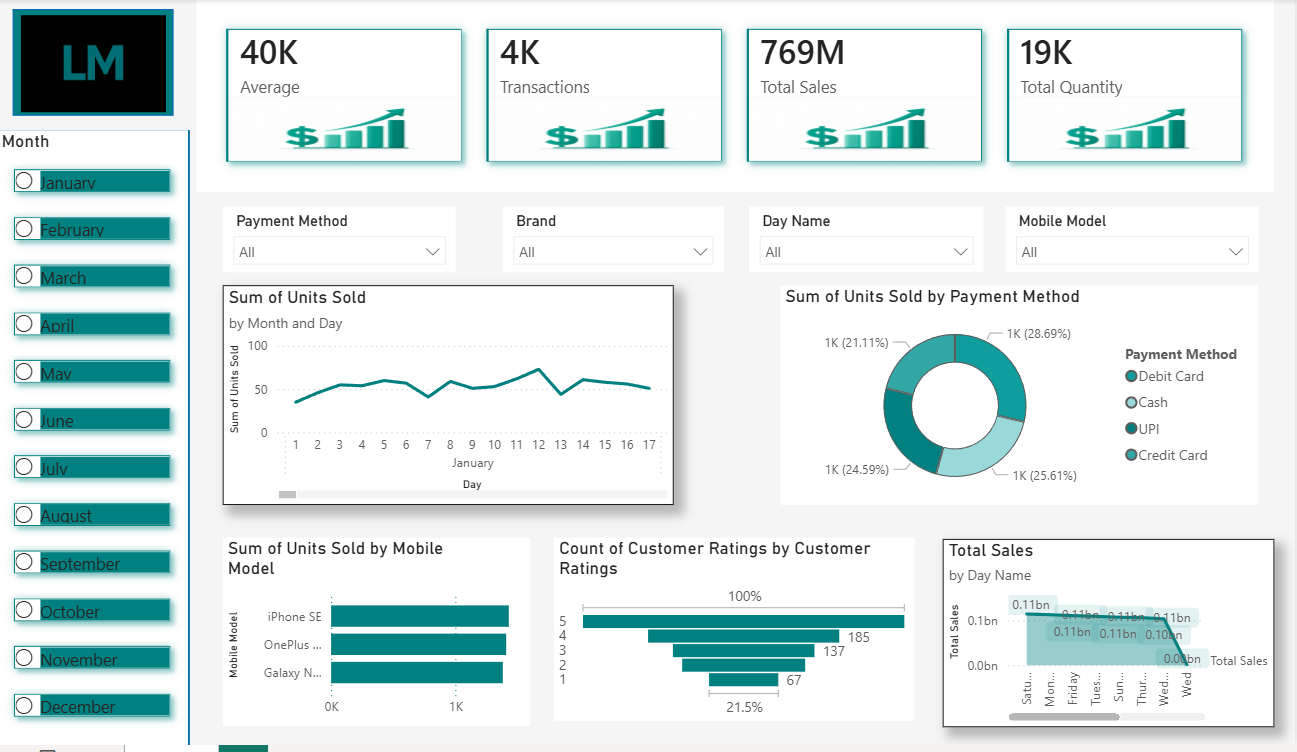

The page's visual inventory and layout, read from the dashboard file:
{"tool":"powerbi","page":{"name":"Page 1","canvas":[1280,720],"ordinal":0},"visuals":[{"type":"shape","box":[42.5,9.6,155.1,102.9],"z":0},{"type":"shape","box":[27.4,126.2,185.2,594.2],"z":1000},{"type":"listSlicer","fields":{"Values":["Sheet1.Date.Variation.Date Hierarchy.Month"]},"box":[26.7,126.7,185,593.3],"z":2000},{"type":"image","box":[20.6,15.1,199,93.3],"z":3000},{"type":"cardVisual","fields":{"Data":["Sheet1.Average","Sheet1.Transactions","Sheet1.Total Sales","Sheet1.Total Quantity"]},"box":[220,0,1040,186.7],"z":4000},{"type":"lineChart","fields":{"Category":["Sheet1.Date.Variation.Date Hierarchy.Month","Sheet1.Date.Variation.Date Hierarchy.Day"],"Y":["Sum(Sheet1.Units Sold)"]},"box":[245,276.7,435,211.7],"z":5000},{"type":"clusteredBarChart","fields":{"Category":["Sheet1.Mobile Model"],"Y":["Sum(Sheet1.Units Sold)"]},"box":[245,520,296.7,181.7],"z":6000},{"type":"donutChart","fields":{"Category":["Sheet1.Payment Method"],"Y":["Sum(Sheet1.Units Sold)"]},"box":[783.3,276.7,461.7,211.7],"z":7000},{"type":"funnel","fields":{"Category":["Sheet1.Customer Ratings"],"Y":["CountNonNull(Sheet1.Customer Ratings)"]},"box":[565,520,348.3,176.7],"z":8000},{"type":"areaChart","fields":{"Category":["Sheet1.Day Name"],"Y":["Sheet1.Total Sales"]},"box":[940,521.7,320,181.7],"z":9000},{"type":"slicer","fields":{"Values":["Sheet1.Mobile Model"]},"box":[1000,200,245,63.3],"z":10000},{"type":"slicer","fields":{"Values":["Sheet1.Brand"]},"box":[515,200,213.3,63.3],"z":11000},{"type":"slicer","fields":{"Values":["Sheet1.Day Name"]},"box":[753.3,200,226.7,63.3],"z":12000},{"type":"slicer","fields":{"Values":["Sheet1.Payment Method"]},"box":[245,200,225,63.3],"z":13000}]}

Visuals, with their boxes in screenshot pixels (x1, y1, x2, y2), scaled from the page's 1280x720 canvas onto the 1297x752 screenshot:
shape: left=43, top=10, right=200, bottom=118
shape: left=28, top=132, right=215, bottom=751
listSlicer - Sheet1.Date.Variation.Date Hierarchy.Month: left=27, top=132, right=215, bottom=751
image: left=21, top=16, right=223, bottom=113
cardVisual - Sheet1.Average x Sheet1.Transactions: left=223, top=0, right=1277, bottom=195
lineChart - Sheet1.Date.Variation.Date Hierarchy.Month x Sheet1.Date.Variation.Date Hierarchy.Day: left=248, top=289, right=689, bottom=510
clusteredBarChart - Sheet1.Mobile Model x Sum(Sheet1.Units Sold): left=248, top=543, right=549, bottom=733
donutChart - Sheet1.Payment Method x Sum(Sheet1.Units Sold): left=794, top=289, right=1262, bottom=510
funnel - Sheet1.Customer Ratings x CountNonNull(Sheet1.Customer Ratings): left=573, top=543, right=925, bottom=728
areaChart - Sheet1.Day Name x Sheet1.Total Sales: left=952, top=545, right=1277, bottom=735
slicer - Sheet1.Mobile Model: left=1013, top=209, right=1262, bottom=275
slicer - Sheet1.Brand: left=522, top=209, right=738, bottom=275
slicer - Sheet1.Day Name: left=763, top=209, right=993, bottom=275
slicer - Sheet1.Payment Method: left=248, top=209, right=476, bottom=275
